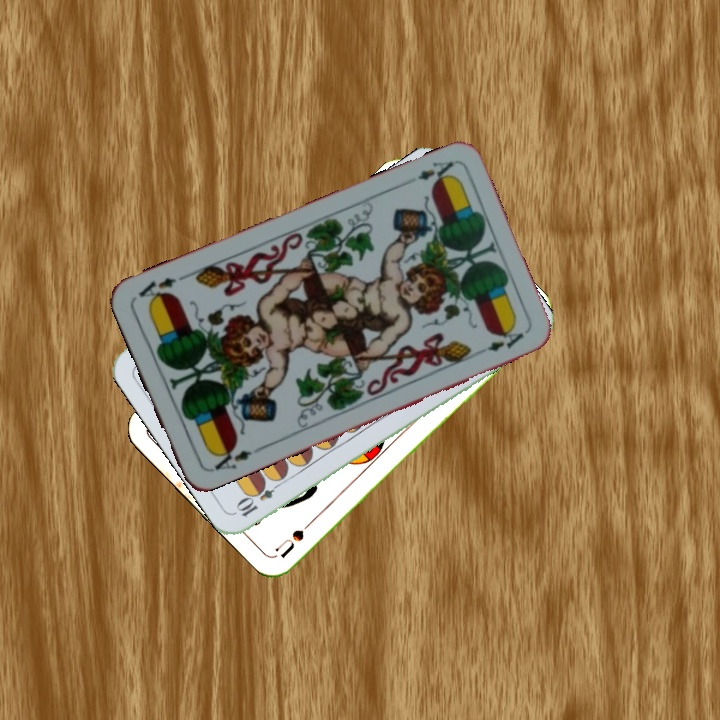E10: (233, 475, 286, 520)
EA: (206, 440, 262, 475), (413, 157, 458, 187)
SU: (272, 511, 321, 561)
